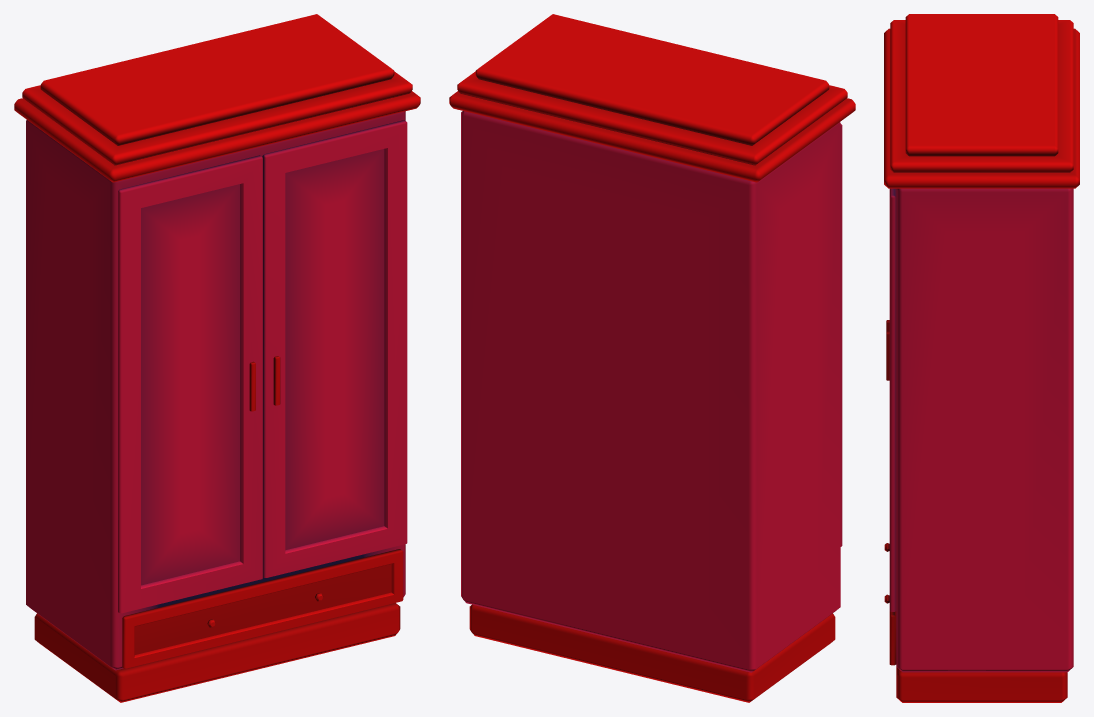
Rendered from CI_Bedroom_Wardrobe_Double.glb.
The picture shows the model from 3 angles, left to right: view 1: azimuth 30°, elevation 25°; view 2: azimuth 150°, elevation 25°; view 3: azimuth 270°, elevation 25°; orthographic projection.
Visible parts, largest first — view 1: CI_Bedroom_Wardrobe_Double; view 2: CI_Bedroom_Wardrobe_Double; view 3: CI_Bedroom_Wardrobe_Double.
Boxes of the visible parts, box(x1,y1,x2,y2) form: CI_Bedroom_Wardrobe_Double: box(14, 14, 420, 702); CI_Bedroom_Wardrobe_Double: box(449, 14, 855, 702); CI_Bedroom_Wardrobe_Double: box(884, 14, 1079, 702).
Bounding box in the file's own units: 1.16 × 2.01 × 0.64.
